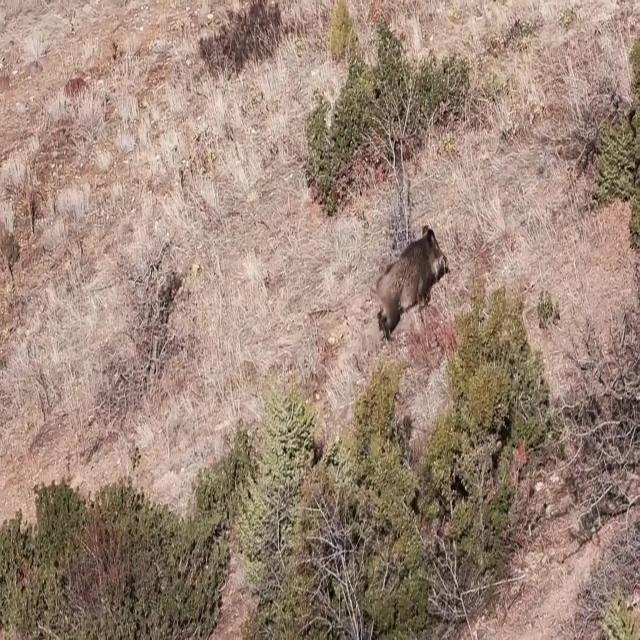pig: (366, 186, 451, 362)
